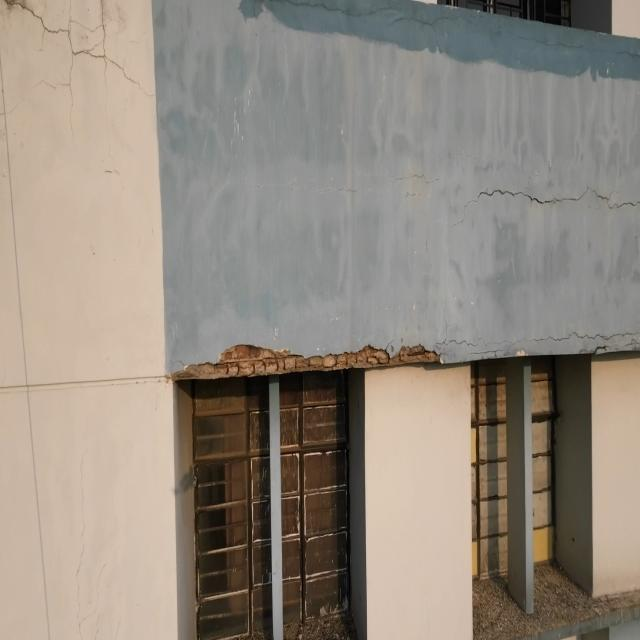Crack: (239, 0, 640, 81), (0, 0, 143, 130), (434, 332, 640, 363), (466, 188, 640, 215)
Spalling: (171, 344, 441, 380)
